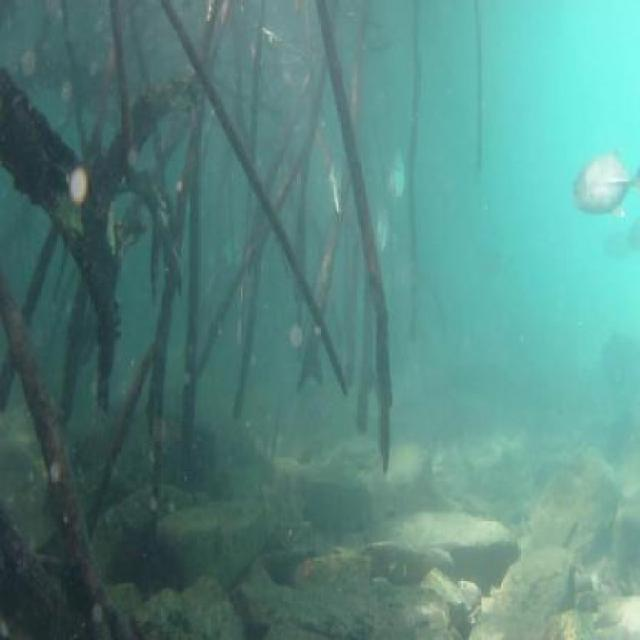Caranx_sexfasciatus_juvenile: (569, 140, 640, 223), (378, 137, 413, 200), (319, 144, 346, 213), (371, 191, 398, 258)
